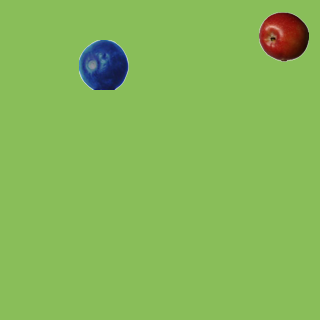Apple Braeburn: (258, 11, 308, 61)
Huckleberry: (78, 39, 128, 89)
